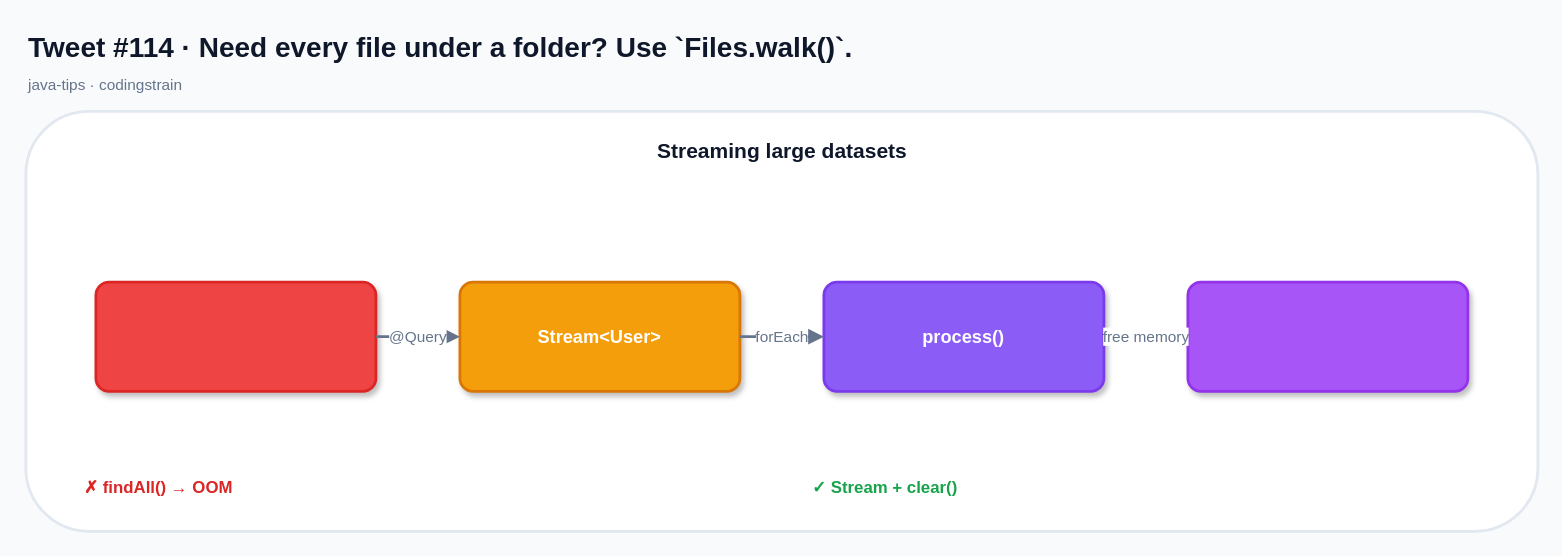
Image size: 1562x556. Some labels were removed from this diagram. Each missing label, with the centre of its shape:
"1M+ rows" goes at point (236, 338).
"em.clear() every N" goes at point (1328, 338).
